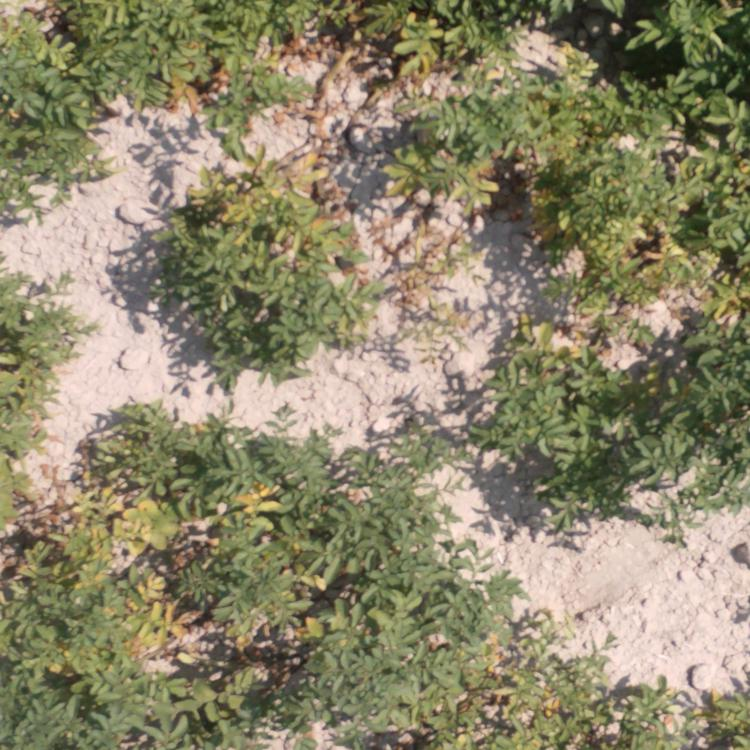healthy: (313, 439, 455, 599), (96, 1, 281, 108), (1, 1, 94, 213), (647, 7, 750, 194), (95, 414, 287, 464)
stressed: (2, 478, 296, 744), (488, 322, 750, 508), (178, 160, 362, 380), (310, 608, 579, 747), (394, 98, 644, 196), (552, 198, 750, 311), (298, 4, 604, 72), (2, 255, 62, 477), (599, 671, 736, 750), (381, 219, 461, 295)
